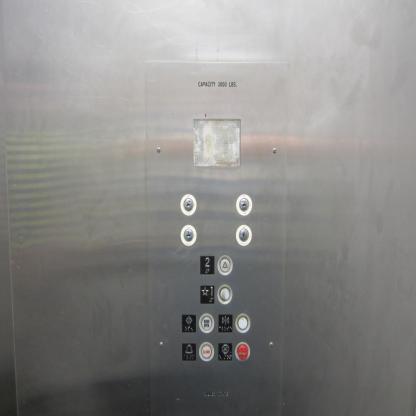2: (200, 255, 216, 275)
alarm: (181, 342, 196, 361)
close: (218, 314, 233, 333)
empty: (216, 284, 233, 304), (235, 313, 251, 333)
keyhole: (180, 224, 196, 246), (236, 224, 252, 246), (180, 194, 196, 215), (236, 194, 252, 215)
open: (181, 314, 196, 333)
s1: (199, 285, 215, 304)
stop: (218, 342, 232, 361)
text: (198, 342, 214, 362), (199, 313, 214, 333)
text_emergency: (235, 342, 250, 361)
up: (217, 255, 233, 275)
